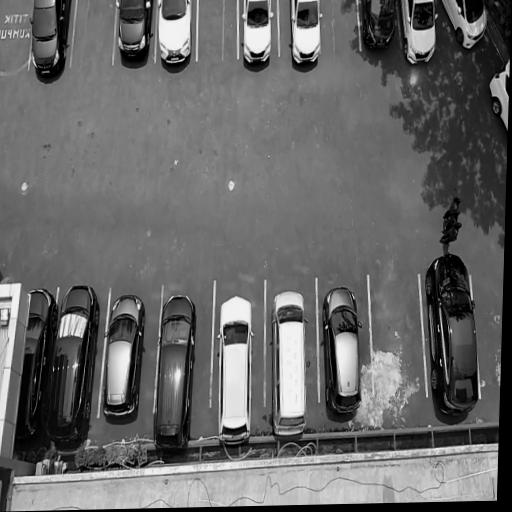Car: (420, 258, 486, 421), (145, 296, 199, 457), (49, 282, 98, 455), (314, 289, 366, 421), (212, 298, 255, 449), (264, 292, 308, 439), (99, 294, 145, 426), (15, 292, 50, 456), (27, 0, 68, 86), (398, 0, 438, 75), (437, 0, 490, 54), (153, 0, 190, 76), (240, 0, 272, 80), (286, 0, 321, 73), (114, 0, 149, 72), (361, 0, 394, 62), (487, 64, 508, 143)
Space Available: (369, 272, 420, 401), (70, 0, 113, 75), (195, 0, 239, 72), (0, 0, 31, 82), (324, 0, 359, 68)
